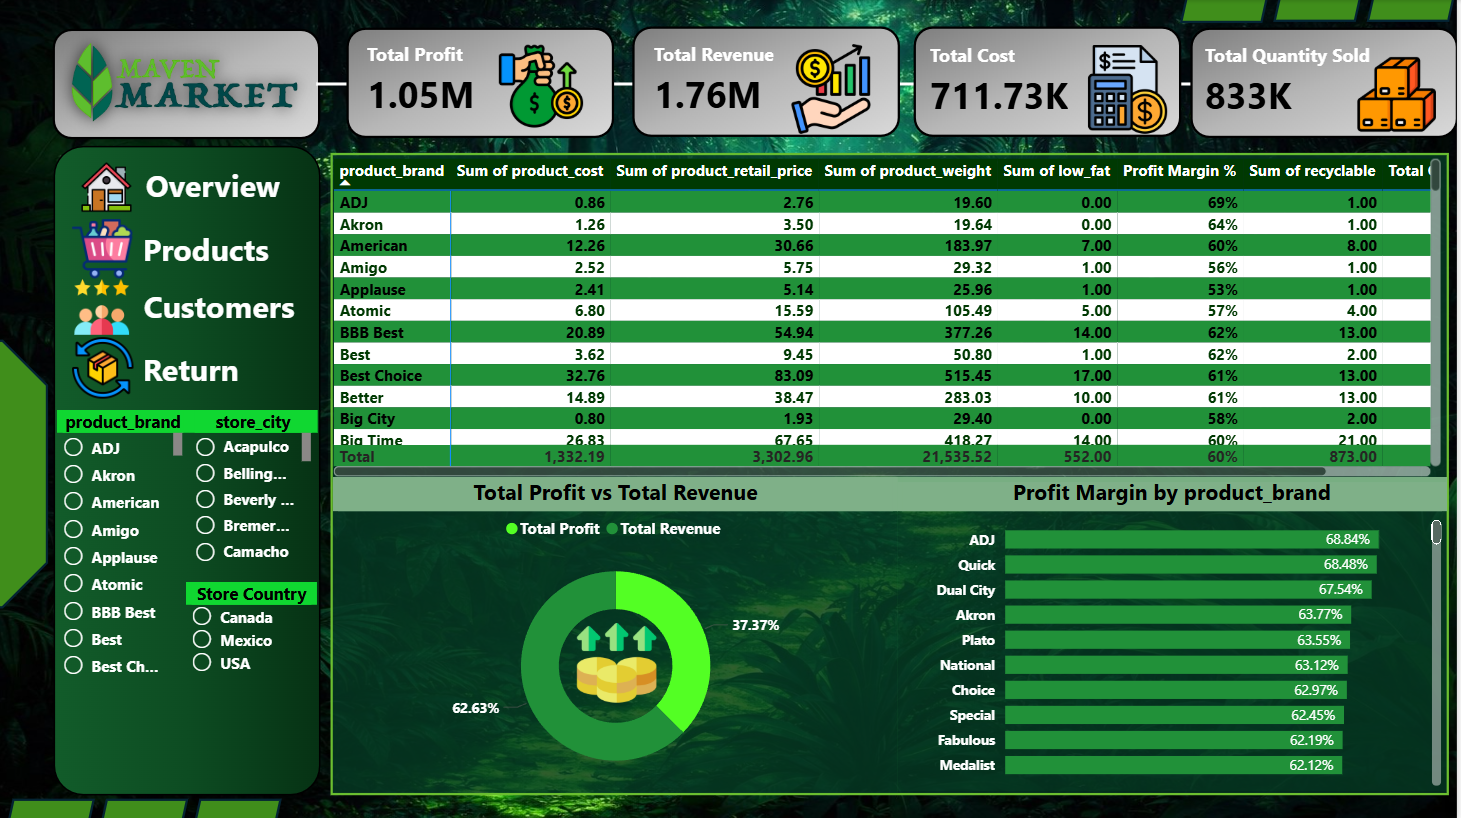

This screenshot's page, from the dashboard's own definition file:
{"tool":"powerbi","page":{"name":"Products","canvas":[1280,720],"ordinal":1},"visuals":[{"type":"group","id":"g1","title":"Group 1","box":[69,139,193,53],"z":0},{"type":"image","box":[64.5,191.5,52.5,53.8],"z":0,"group":"g5"},{"type":"image","box":[63.2,245.2,53.8,48.8],"z":0,"group":"g3"},{"type":"image","box":[64.5,295.2,53.8,56.2],"z":0,"group":"g4"},{"type":"group","id":"g2","title":"Group 10","box":[50.9,360,229.1,313.6],"z":0,"group":"g10"},{"type":"image","box":[494.5,547,96.4,70.3],"z":0,"group":"g12"},{"type":"actionButton","box":[68,142,196,44],"z":1000},{"type":"image","box":[69,142.1,50,43.8],"z":1000,"group":"g1"},{"type":"textbox","box":[122,245.2,148.8,50],"z":1000,"group":"g3"},{"type":"textbox","box":[122,300.2,106.2,51.2],"z":1000,"group":"g4"},{"type":"listSlicer","fields":{"Values":["Stores.store_city"]},"box":[167.2,360,112.7,136],"z":1000,"group":"g10"},{"type":"donutChart","title":"Total Profit vs Total Revenue","fields":{"Y":["KPIs.Total Profit","KPIs.Total Revenue"]},"box":[293.5,419,496.4,278.2],"z":1000,"group":"g12"},{"type":"textbox","box":[123.1,139,138.8,52.5],"z":2000,"group":"g1"},{"type":"group","id":"g3","title":"Group 3","box":[63.2,245.2,207.5,50],"z":2000},{"type":"textbox","box":[121.7,194.9,133.8,48.8],"z":2003,"group":"g5"},{"type":"actionButton","box":[58,246,209,50],"z":3000},{"type":"group","id":"g4","title":"Group 4","box":[64.5,295.2,163.8,56.2],"z":4000},{"type":"actionButton","box":[58,296,209,57],"z":5000},{"type":"group","id":"g5","title":"Group 2","box":[64.5,191.5,191.2,53.8],"z":6000},{"type":"actionButton","box":[65,191,196,53],"z":7000},{"type":"group","id":"g6","title":"Group 6","box":[294.5,3.6,251.4,131.4],"z":8000},{"type":"group","id":"g7","title":"Group 5","box":[546.4,3.6,252.7,130.9],"z":9000},{"type":"cardVisual","fields":{"Data":["KPIs.Total Revenue"]},"box":[546.4,3.6,252.9,131.4],"z":9000,"group":"g7"},{"type":"cardVisual","fields":{"Data":["select","KPIs.Total Cost"]},"box":[788.6,4.3,240,131.4],"z":9000,"group":"g8"},{"type":"cardVisual","fields":{"Data":["KPIs.Total Profit"]},"box":[294.5,3.6,251.4,131.4],"z":10000,"group":"g6"},{"type":"group","id":"g8","title":"Group 7","box":[788.6,4.3,243.4,131.4],"z":10000},{"type":"cardVisual","fields":{"Data":["KPIs.Total Quantity Sold"]},"box":[1030,4.3,240,131.4],"z":10000,"group":"g9"},{"type":"group","id":"g9","title":"Group 8","box":[1030,4.3,249,131.4],"z":11000},{"type":"group","id":"g10","title":"Group 11","box":[50.9,360,229.1,313.6],"z":12000},{"type":"image","box":[677.4,38.9,107.1,78.6],"z":12001,"group":"g7"},{"type":"image","box":[433,39,86,74],"z":13000},{"type":"image","box":[950,39,82,78],"z":13000,"group":"g8"},{"type":"image","box":[1176,48,103,69],"z":13002,"group":"g9"},{"type":"barChart","title":"Profit Margin by product_brand","fields":{"Category":["Products.product_brand"],"Y":["KPIs.Profit Margin %"]},"box":[788.2,419.1,482.7,276.4],"z":14000},{"type":"group","id":"g11","title":"Group 9","box":[164.6,511.2,115.4,162.5],"z":14000,"group":"g2"},{"type":"pivotTable","fields":{"Values":["Sum(Products.product_cost)","Sum(Products.product_retail_price)","Sum(Products.product_weight)","Sum(Products.low_fat)","KPIs.Profit Margin %","Sum(Products.recyclable)","KPIs.Total Quantity Sold"],"Rows":["Products.product_brand"]},"box":[289.1,134.5,981.8,289.1],"z":15000},{"type":"listSlicer","fields":{"Values":["Products.product_brand"]},"box":[50.9,360,115.9,240.5],"z":15000,"group":"g2"},{"type":"group","id":"g12","title":"Group 12","box":[293.5,419,496.4,278.2],"z":16000},{"type":"listSlicer","title":"Store Country","fields":{"Values":["Stores.store_country"]},"box":[164.6,511.2,115.4,162.5],"z":19000,"group":"g11"}]}

Visuals, with their boxes in screenshot pixels (x1, y1, x2, y2), scaled from the page's 1280x720 canvas onto the 1461x818 screenshot:
"Group 1" group: bbox(79, 158, 299, 218)
image: bbox(74, 218, 134, 279)
image: bbox(72, 279, 134, 334)
image: bbox(74, 335, 135, 399)
"Group 10" group: bbox(58, 409, 320, 765)
image: bbox(564, 621, 674, 701)
actionButton: bbox(78, 161, 301, 211)
image: bbox(79, 161, 136, 211)
textbox: bbox(139, 279, 309, 335)
textbox: bbox(139, 341, 260, 399)
listSlicer - Stores.store_city: bbox(191, 409, 319, 564)
"Total Profit vs Total Revenue" donutChart: bbox(335, 476, 902, 792)
textbox: bbox(141, 158, 299, 218)
"Group 3" group: bbox(72, 279, 309, 335)
textbox: bbox(139, 221, 292, 277)
actionButton: bbox(66, 279, 305, 336)
"Group 4" group: bbox(74, 335, 261, 399)
actionButton: bbox(66, 336, 305, 401)
"Group 2" group: bbox(74, 218, 292, 279)
actionButton: bbox(74, 217, 298, 277)
"Group 6" group: bbox(336, 4, 623, 153)
"Group 5" group: bbox(624, 4, 912, 153)
cardVisual - KPIs.Total Revenue: bbox(624, 4, 912, 153)
cardVisual - select x KPIs.Total Cost: bbox(900, 5, 1174, 154)
cardVisual - KPIs.Total Profit: bbox(336, 4, 623, 153)
"Group 7" group: bbox(900, 5, 1178, 154)
cardVisual - KPIs.Total Quantity Sold: bbox(1176, 5, 1450, 154)
"Group 8" group: bbox(1176, 5, 1460, 154)
"Group 11" group: bbox(58, 409, 320, 765)
image: bbox(773, 44, 895, 133)
image: bbox(494, 44, 592, 128)
image: bbox(1084, 44, 1178, 133)
image: bbox(1342, 55, 1460, 133)
"Profit Margin by product_brand" barChart: bbox(900, 476, 1451, 790)
"Group 9" group: bbox(188, 581, 320, 765)
pivotTable - Sum(Products.product_cost) x Sum(Products.product_retail_price): bbox(330, 153, 1451, 481)
listSlicer - Products.product_brand: bbox(58, 409, 190, 682)
"Group 12" group: bbox(335, 476, 902, 792)
"Store Country" listSlicer: bbox(188, 581, 320, 765)
